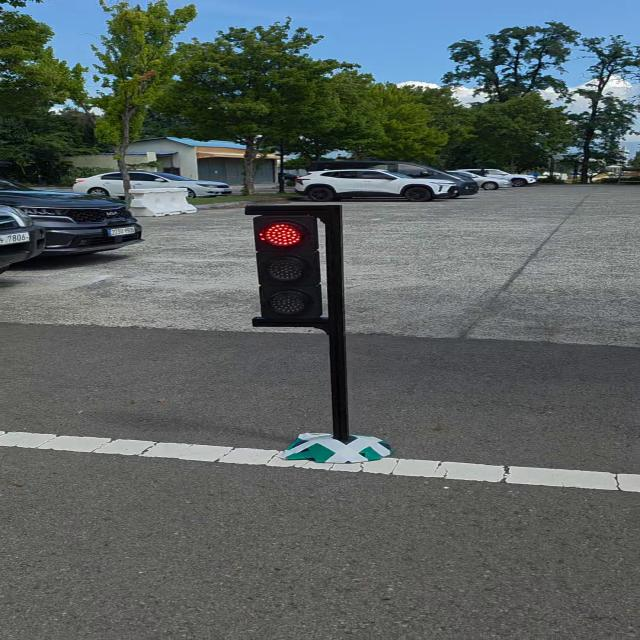red: (244, 206, 329, 326)
